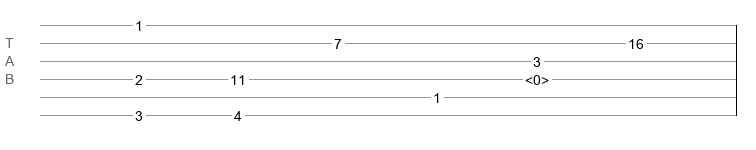1: (135, 18, 143, 28), (433, 90, 441, 100)
11: (230, 72, 246, 82)
16: (628, 36, 644, 46)
2: (135, 72, 143, 82)
3: (135, 108, 143, 118), (533, 54, 541, 64)
4: (234, 108, 242, 118)
7: (334, 36, 342, 46)
harmonic: (525, 72, 549, 82)
